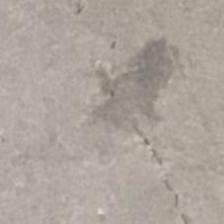Crack: (90, 55, 208, 224)
Non_Crack: (17, 18, 75, 224)
